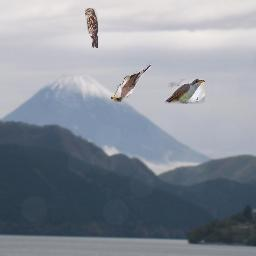Cuckoo: (111, 63, 151, 102), (165, 79, 205, 104)
Sparrow: (85, 8, 98, 48)
